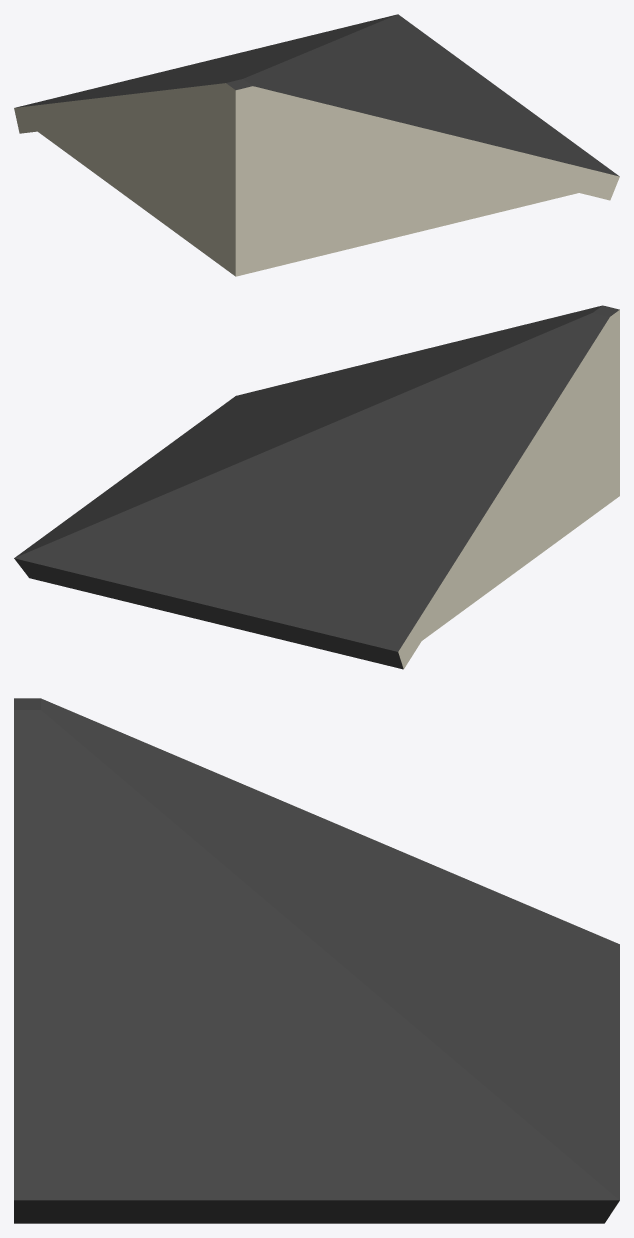
File: modularBuildings_032.fbx
The picture shows the model from 3 angles, top to bottom: view 1: azimuth 30°, elevation 25°; view 2: azimuth 150°, elevation 25°; view 3: azimuth 270°, elevation 25°; orthographic projection. The views are drawn at different scales.
Visible parts, largest first — view 1: Mesh1_Group1 Model; view 2: Mesh1_Group1 Model; view 3: Mesh1_Group1 Model.
Boxes of the visible parts, x1,y1,x2,y2 form: Mesh1_Group1 Model: (14, 14, 619, 276); Mesh1_Group1 Model: (14, 305, 619, 669); Mesh1_Group1 Model: (14, 698, 619, 1223).
Size of the model in its own units: 1.12 by 0.5612 by 1.12.
